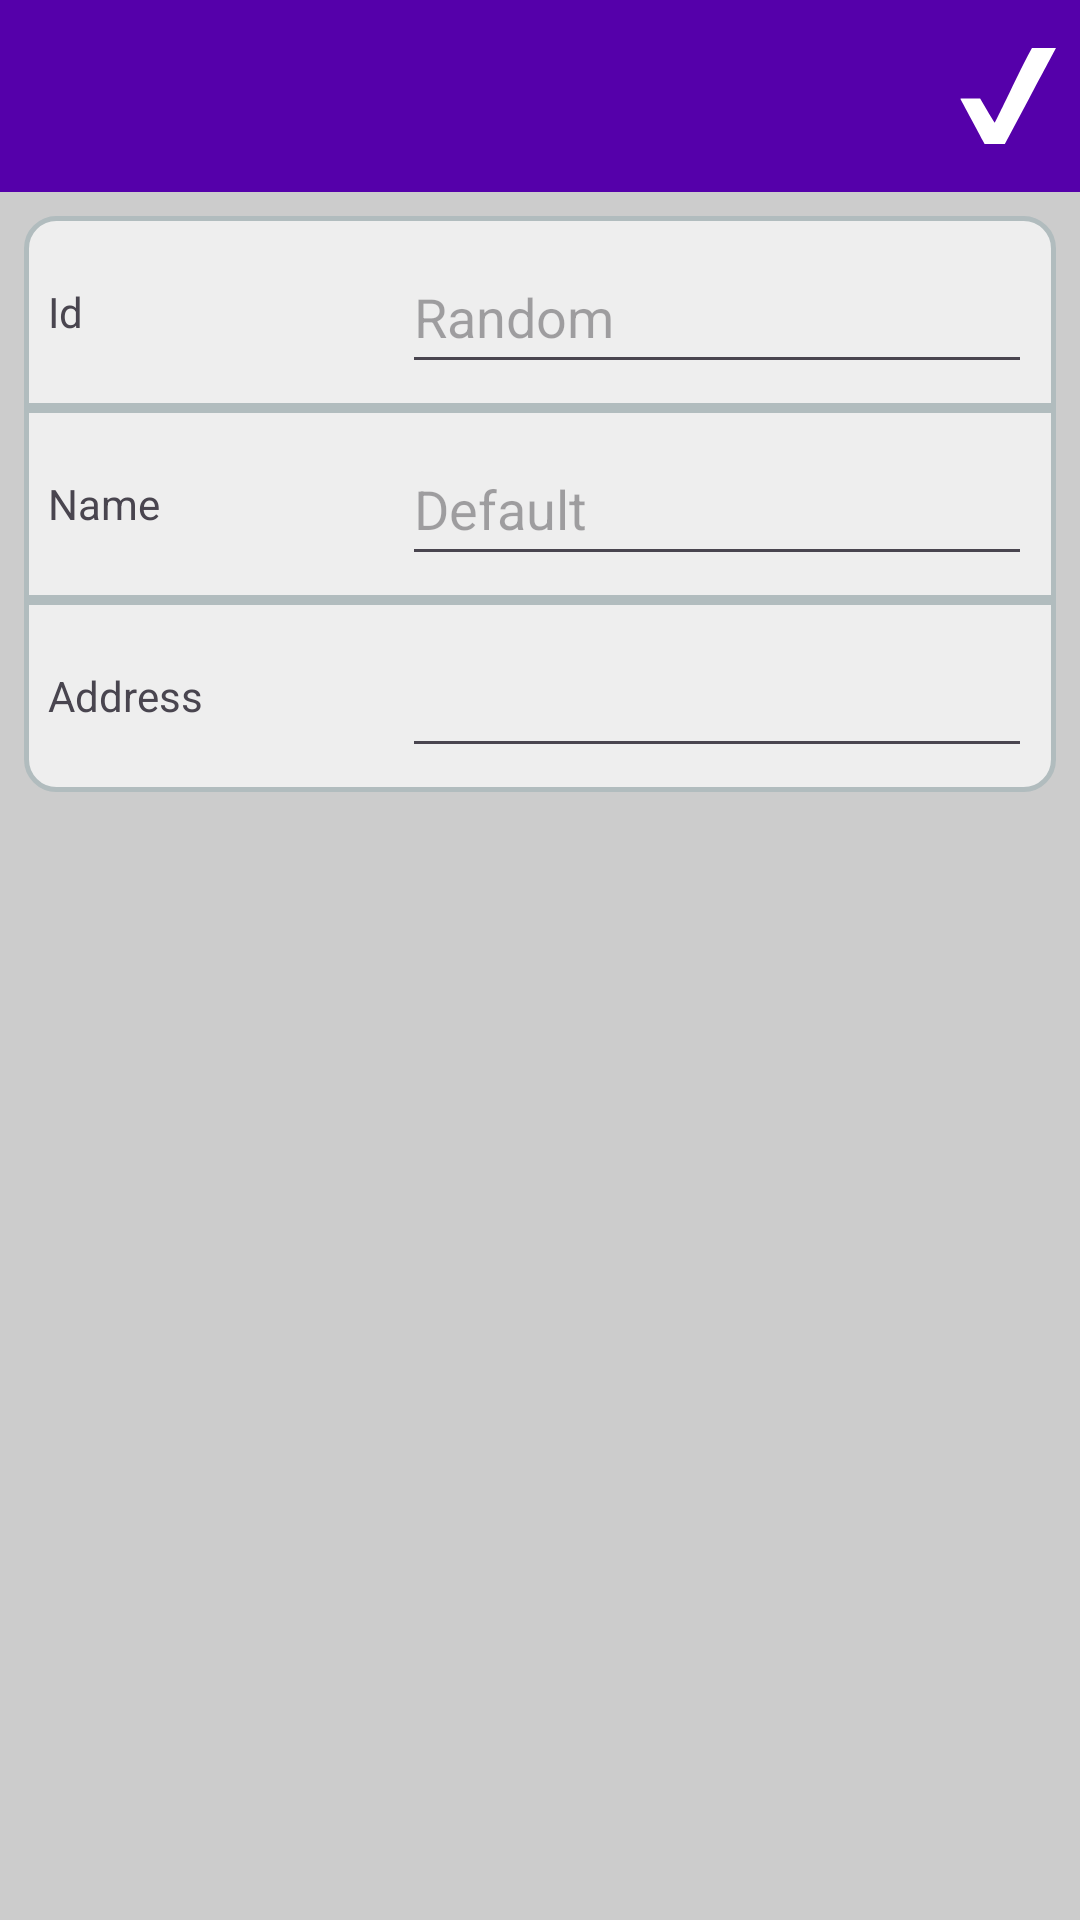

Locate icon controls on the screen. Image size 1080w x 1920h, boxes as (x1, y1, x2, y2).
Confirm: (960, 48, 1056, 144)
